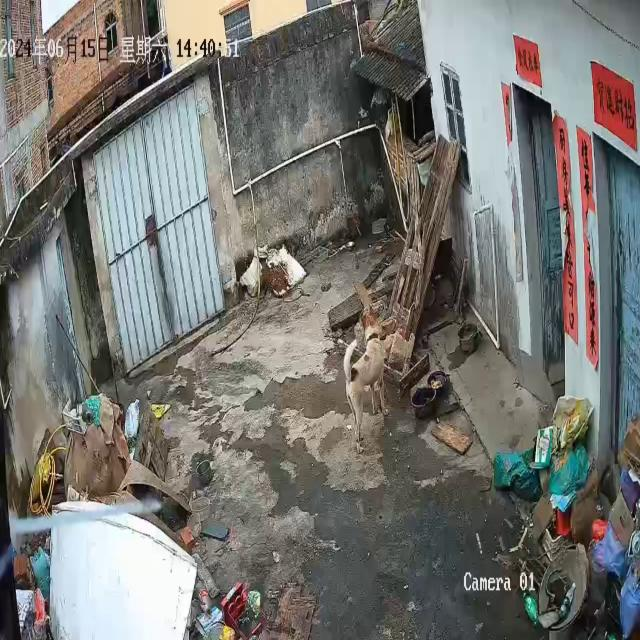dog: (344, 333, 389, 455)
